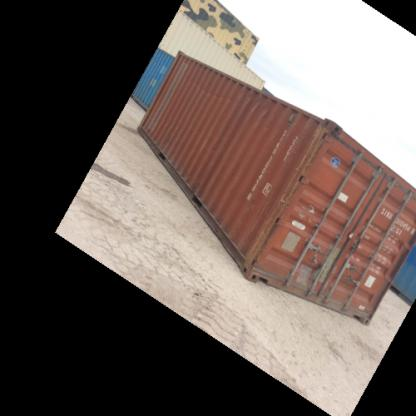Damage: (301, 123, 336, 169), (248, 207, 275, 266), (193, 76, 231, 106), (296, 250, 322, 284), (292, 198, 318, 221), (249, 95, 272, 117)
